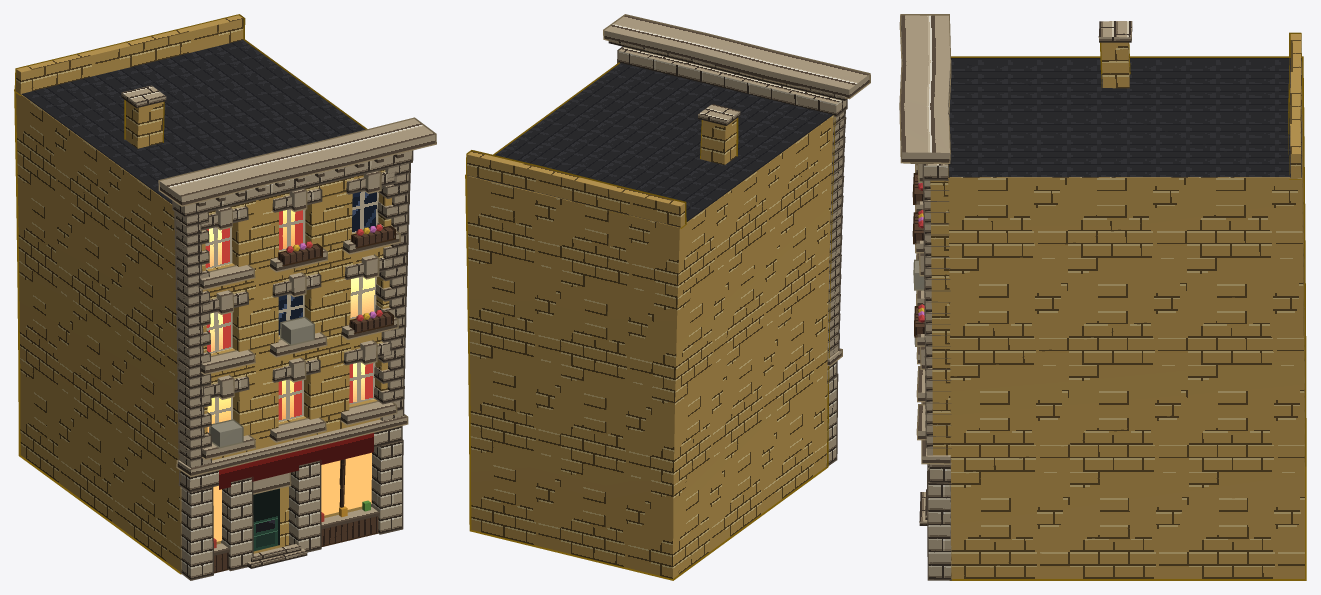
File: Haus_dojo_2.glb
3 renders of one model, left to right at view 1: azimuth 30°, elevation 25°; view 2: azimuth 150°, elevation 25°; view 3: azimuth 270°, elevation 25°, orthographic. The views are drawn at different scales.
Parts seen in each view (by area): view 1: Haus_dojo_2; view 2: Haus_dojo_2; view 3: Haus_dojo_2.
Boxes of the visible parts, x1,y1,x2,y2 form: Haus_dojo_2: (14,14,436,580); Haus_dojo_2: (465,14,870,580); Haus_dojo_2: (899,14,1306,580).
Bounding box in the file's own units: 10.99 × 17.01 × 13.7.
Materials: 21 (8 with a texture image).
